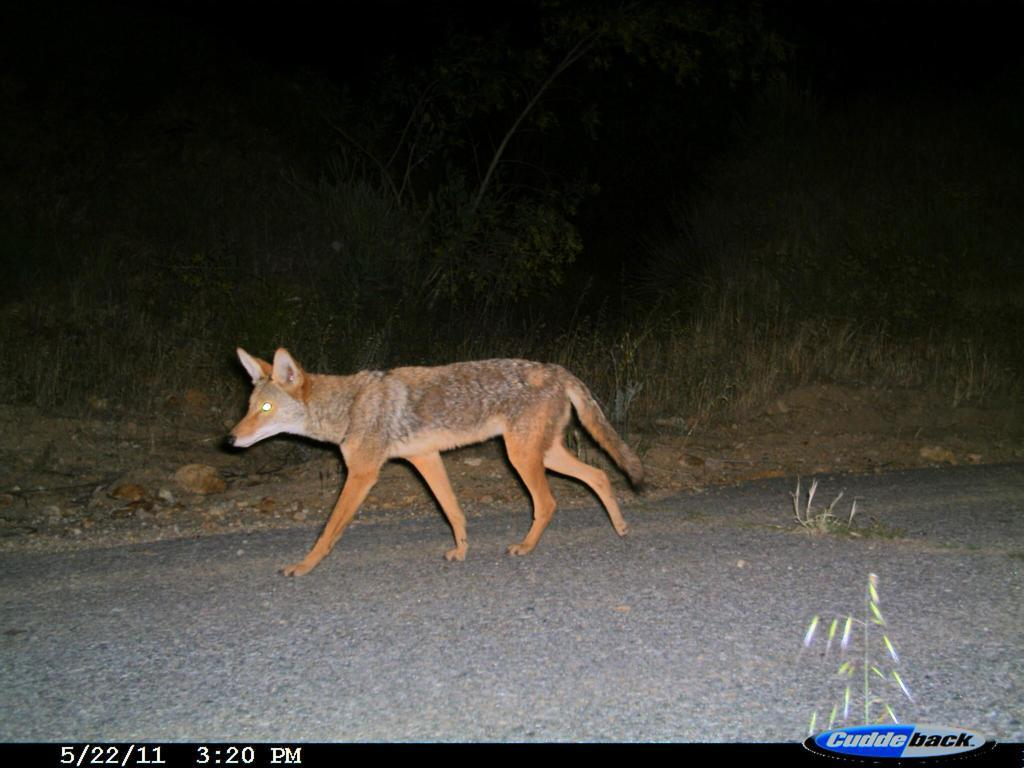coyote: (177, 313, 679, 593)
